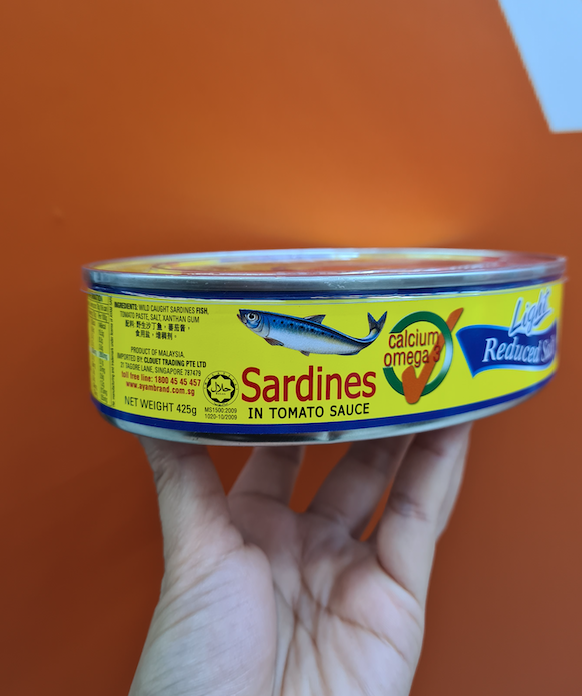Canned_Sardines_and_Mackerel: (88, 260, 556, 428)
